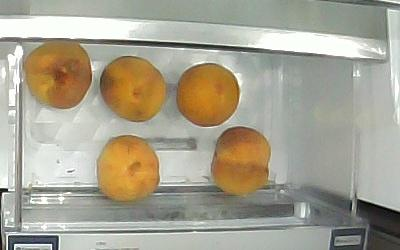peach: (25, 42, 92, 109), (100, 56, 165, 122), (98, 135, 159, 202), (212, 126, 270, 195), (177, 64, 240, 127)
